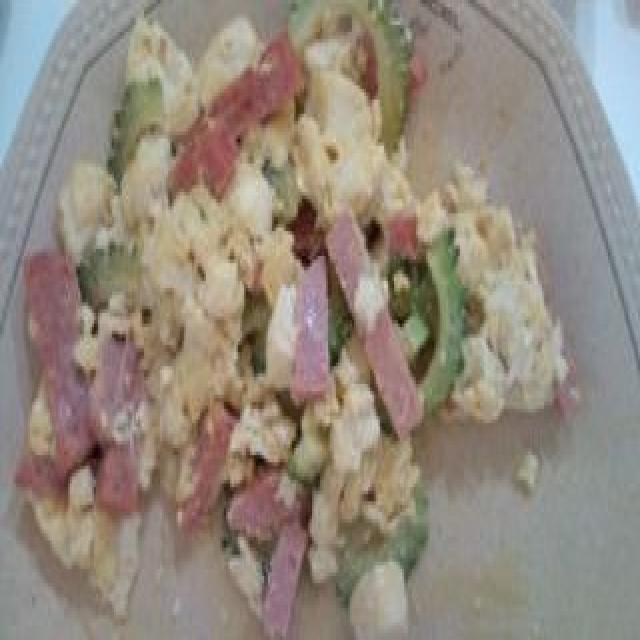Green Salad: (34, 41, 534, 560)
